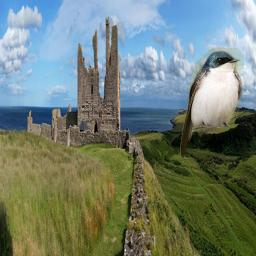Swallow: (180, 47, 244, 159)
